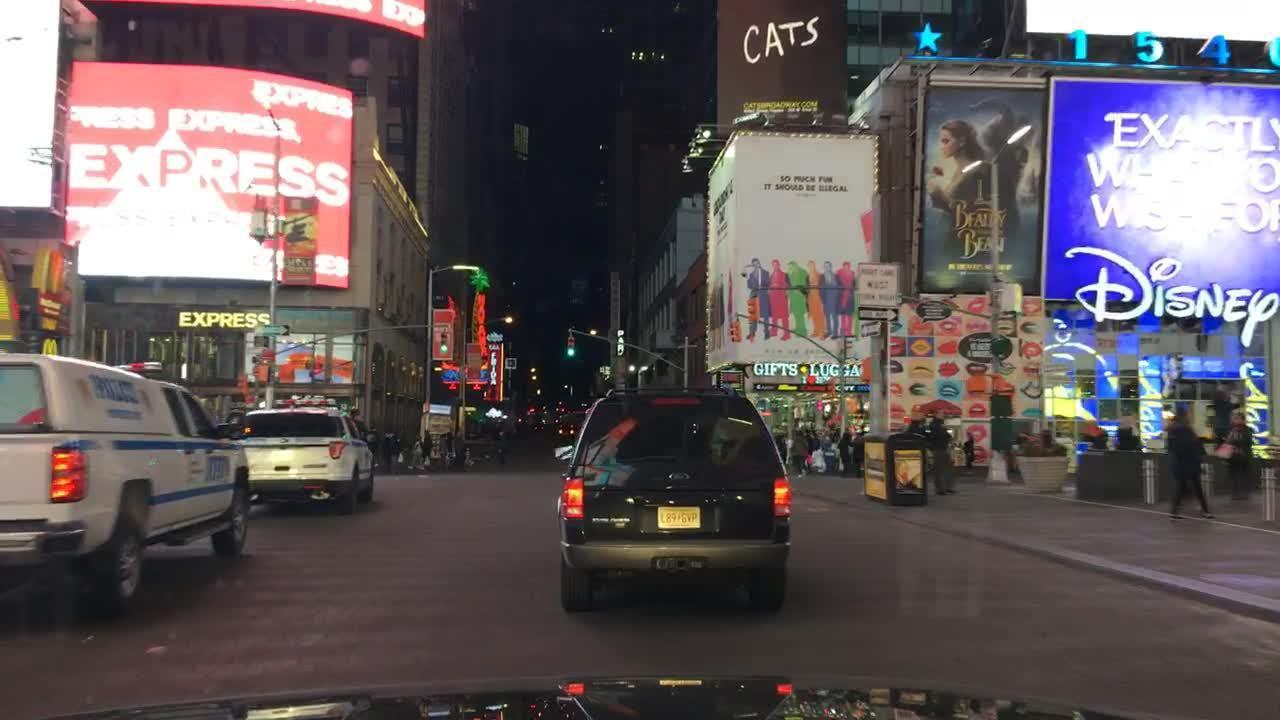ford: (664, 469, 694, 487)
